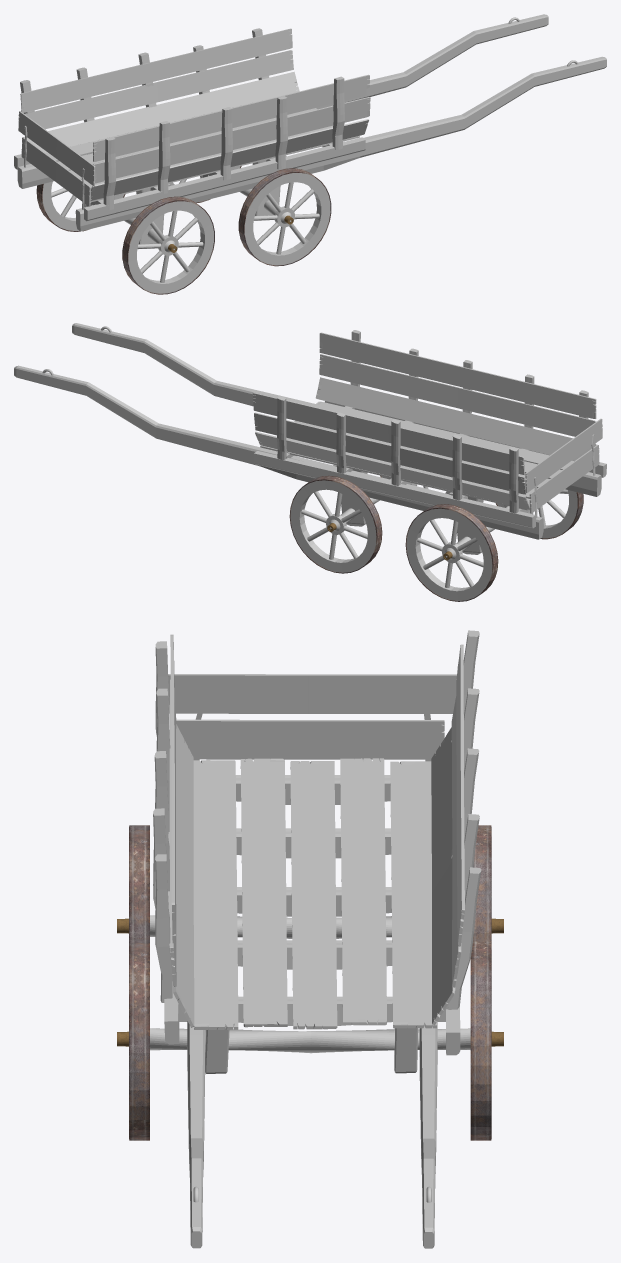
Rendered from Wooden_Cart_A.obj.
3 renders of one model, top to bottom at view 1: azimuth 30°, elevation 25°; view 2: azimuth 150°, elevation 25°; view 3: azimuth 270°, elevation 25°, orthographic. The views are drawn at different scales.
Parts seen in each view (by area): view 1: Cube.030_Cube.010, Cube.031_Cube.010, Cube.008_Cube.003, Cube.015_Cube.005, Cylinder.007_Cylinder.038, Cylinder.008_Cylinder.073, Cylinder.022_Cylinder.004, Cube.036_Cube.011, Cylinder.016_Cylinder.017, Cylinder.012_Cylinder.075, Cylinder.011_Cylinder.074, Cube.016_Cube.006 (+4 smaller); view 2: Cube.031_Cube.010, Cube.030_Cube.010, Cube.008_Cube.003, Cube.015_Cube.005, Cylinder.011_Cylinder.074, Cylinder.014_Cylinder.039, Cube.036_Cube.011, Cylinder.022_Cylinder.004, Cylinder.003_Cylinder.017, Cylinder.020_Cylinder.075, Cylinder.008_Cylinder.073, Cube.021_Cube.006 (+6 smaller); view 3: Cube.036_Cube.011, Cylinder.022_Cylinder.004, Cube.030_Cube.010, Cube.031_Cube.010, Cube.008_Cube.003, Cylinder.005_Cylinder.015, Cylinder.014_Cylinder.039, Cylinder.007_Cylinder.038, Cube.005_Cube.002, Cylinder.008_Cylinder.073, Cube.016_Cube.006, Cylinder.011_Cylinder.074 (+7 smaller).
Part boxes in pixels (x1,y1,x2,y2): Cube.030_Cube.010: (20,28,299,152); Cube.031_Cube.010: (90,74,370,200); Cube.008_Cube.003: (17,14,606,231); Cube.015_Cube.005: (14,137,365,221); Cylinder.007_Cylinder.038: (238,168,331,266); Cylinder.008_Cylinder.073: (122,196,214,294); Cylinder.022_Cylinder.004: (18,111,95,209); Cube.036_Cube.011: (45,108,359,202); Cylinder.016_Cylinder.017: (254,182,319,254); Cylinder.012_Cylinder.075: (137,211,203,282); Cylinder.011_Cylinder.074: (36,181,125,231); Cube.016_Cube.006: (332,76,344,149); Cube.031_Cube.010: (315,332,596,460); Cube.030_Cube.010: (252,392,529,509); Cube.008_Cube.003: (14,323,601,539); Cube.015_Cube.005: (254,401,606,528); Cylinder.011_Cylinder.074: (405,504,498,601); Cylinder.014_Cylinder.039: (289,475,382,573); Cube.036_Cube.011: (260,401,573,510); Cylinder.022_Cylinder.004: (525,418,602,518); Cylinder.003_Cylinder.017: (301,491,367,559); Cylinder.020_Cylinder.075: (417,519,483,587); Cylinder.008_Cylinder.073: (495,490,583,539); Cube.021_Cube.006: (509,447,518,513); Cube.036_Cube.011: (193,758,436,1029); Cylinder.022_Cylinder.004: (168,674,456,761); Cube.030_Cube.010: (431,644,464,1025); Cube.031_Cube.010: (169,634,194,1027); Cube.008_Cube.003: (187,1021,437,1248); Cylinder.005_Cylinder.015: (150,1028,470,1053); Cylinder.014_Cylinder.039: (470,938,491,1140); Cylinder.007_Cylinder.038: (129,938,149,1140); Cube.005_Cube.002: (178,775,448,1025); Cylinder.008_Cylinder.073: (129,825,149,939); Cube.016_Cube.006: (155,854,172,1002); Cylinder.011_Cylinder.074: (473,825,491,939).
Size of the model in its own units: 2.97 by 0.8948 by 0.9461.
